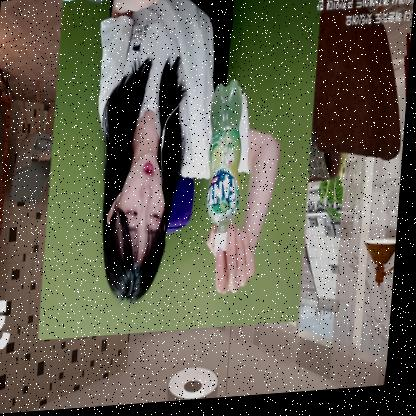streamer: (84, 0, 294, 310)
